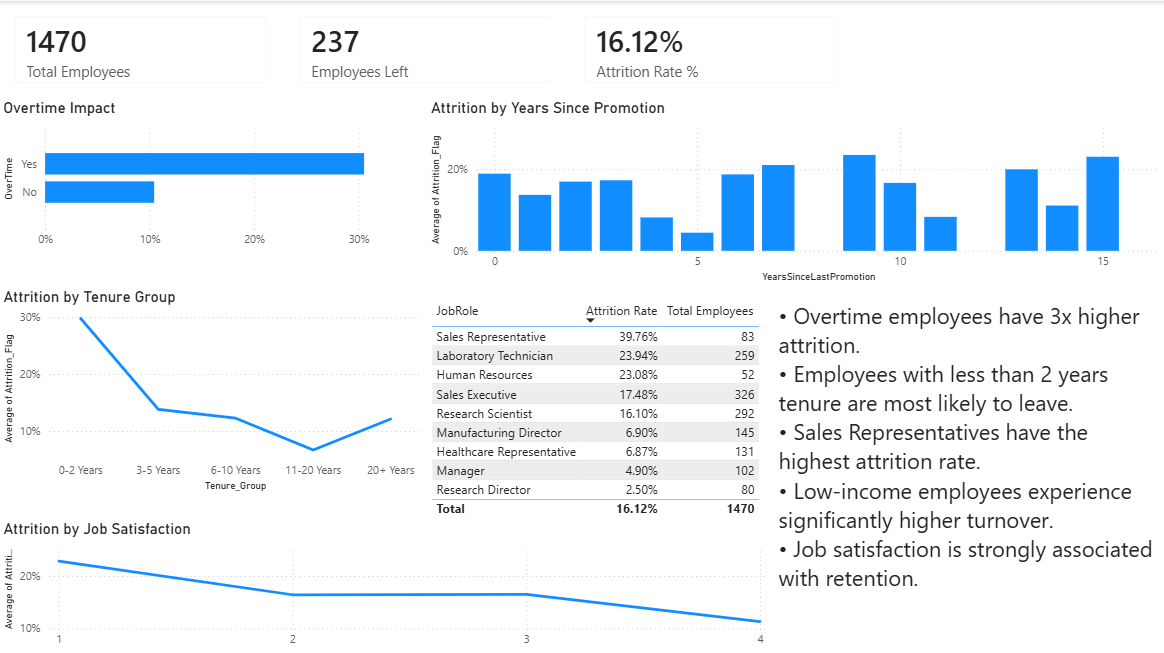

The dashboard page shown, as its layout file describes it:
{"tool":"powerbi","page":{"name":"Page 3: Retention Risk Analysis","canvas":[1280,720],"ordinal":2},"visuals":[{"type":"cardVisual","fields":{"Data":["hr_cleaned.Total Employees"]},"box":[0,0,312.9,107],"z":0},{"type":"cardVisual","fields":{"Data":["hr_cleaned.Attrition Rate %"]},"box":[625.7,0,312.9,107],"z":1},{"type":"cardVisual","fields":{"Data":["hr_cleaned.Employees Left"]},"box":[312.9,0,312.9,107],"z":2},{"type":"clusteredBarChart","title":"Overtime Impact","fields":{"Category":["hr_cleaned.OverTime"],"Y":["Avg(hr_cleaned.Attrition_Flag)"]},"box":[0,107,469.3,172.9],"z":3},{"type":"lineChart","title":"Attrition by Tenure Group","fields":{"Category":["hr_cleaned.Tenure_Group"],"Y":["Avg(hr_cleaned.Attrition_Flag)"]},"box":[0,314.2,469.3,229.2],"z":4},{"type":"lineChart","title":"Attrition by Job Satisfaction","fields":{"Category":["hr_cleaned.JobSatisfaction"],"Y":["Avg(hr_cleaned.Attrition_Flag)"]},"box":[0,569.5,850.8,149.6],"z":5},{"type":"clusteredColumnChart","title":"Attrition by Years Since Promotion","fields":{"Category":["hr_cleaned.YearsSinceLastPromotion"],"Y":["Avg(hr_cleaned.Attrition_Flag)"]},"box":[469.3,107,811,207.2],"z":6},{"type":"tableEx","fields":{"Values":["hr_cleaned.JobRole","hr_cleaned.Attrition Rate","hr_cleaned.Total Employees"]},"box":[469.3,323.8,381.5,256.6],"z":7},{"type":"textbox","box":[850.8,323.8,429.5,395.2],"z":9}]}

Visuals, with their boxes in screenshot pixels (x1, y1, x2, y2), scaled from the page's 1280x720 canvas onto the 1164x653 screenshot:
cardVisual - hr_cleaned.Total Employees: BBox(0, 0, 285, 97)
cardVisual - hr_cleaned.Attrition Rate %: BBox(569, 0, 854, 97)
cardVisual - hr_cleaned.Employees Left: BBox(285, 0, 569, 97)
"Overtime Impact" clusteredBarChart: BBox(0, 97, 427, 254)
"Attrition by Tenure Group" lineChart: BBox(0, 285, 427, 493)
"Attrition by Job Satisfaction" lineChart: BBox(0, 517, 774, 652)
"Attrition by Years Since Promotion" clusteredColumnChart: BBox(427, 97, 1163, 285)
tableEx - hr_cleaned.JobRole x hr_cleaned.Attrition Rate: BBox(427, 294, 774, 526)
textbox: BBox(774, 294, 1163, 652)
